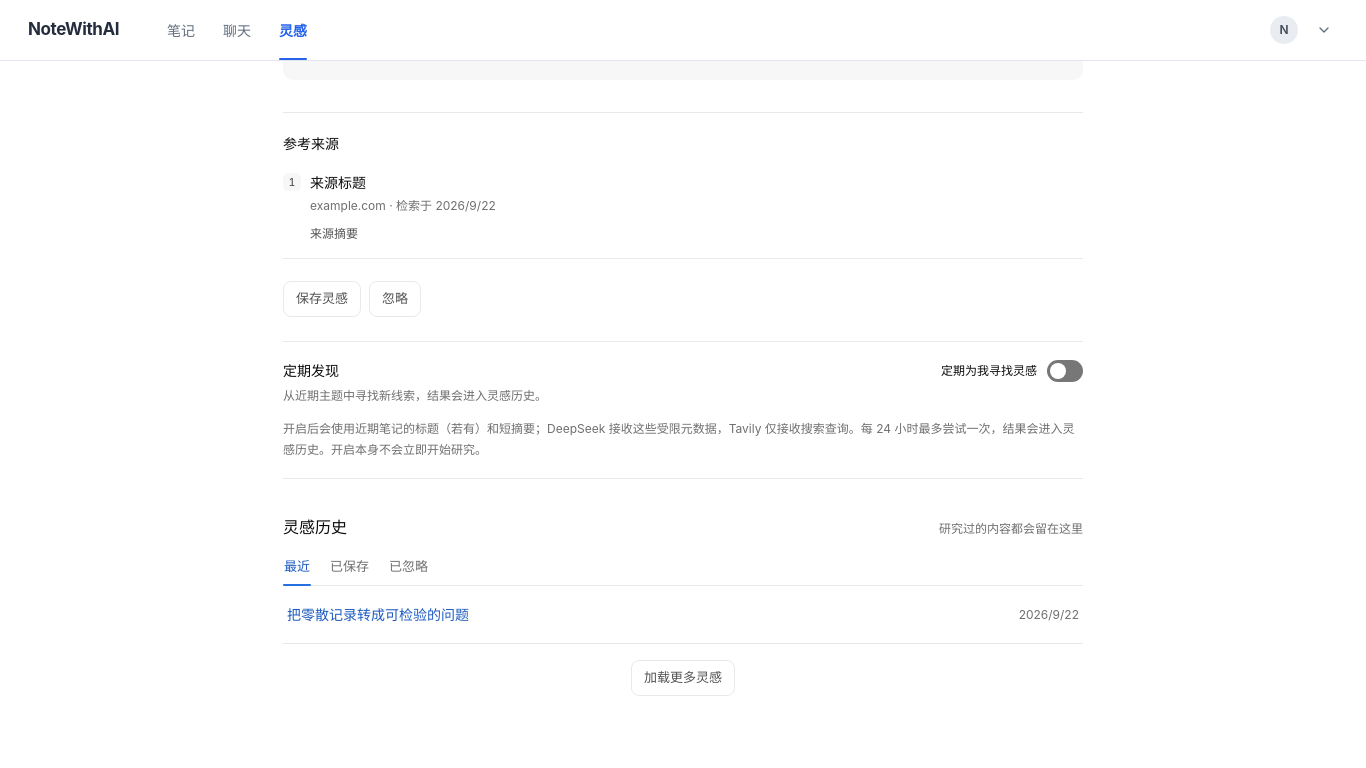
it: InspirationPage › places load more after the final history entry and keeps the first page on failure
(page scrolled)
Click the button "加载更多灵感" at (683, 678), box [631,660,735,696]
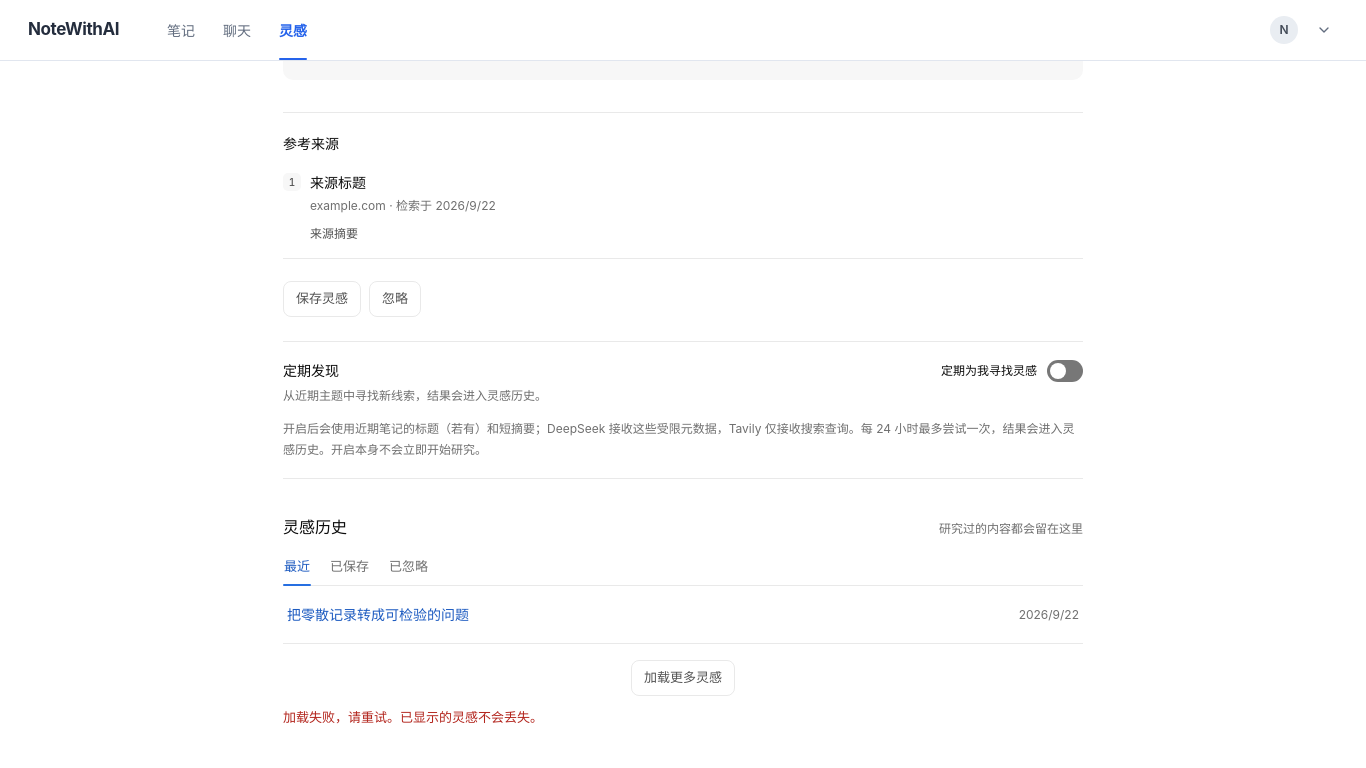
Expected: the button "把零散记录转成可检验的问题 2026/9/22" is shown, [283,586,1083,643]
Expected: the text "加载失败，请重试。已显示的灵感不会丢失。" is shown, [283,709,543,725]
